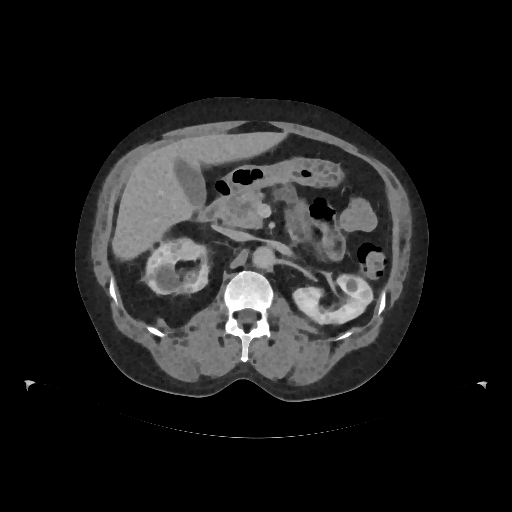Lesion: (182, 271, 198, 283)
